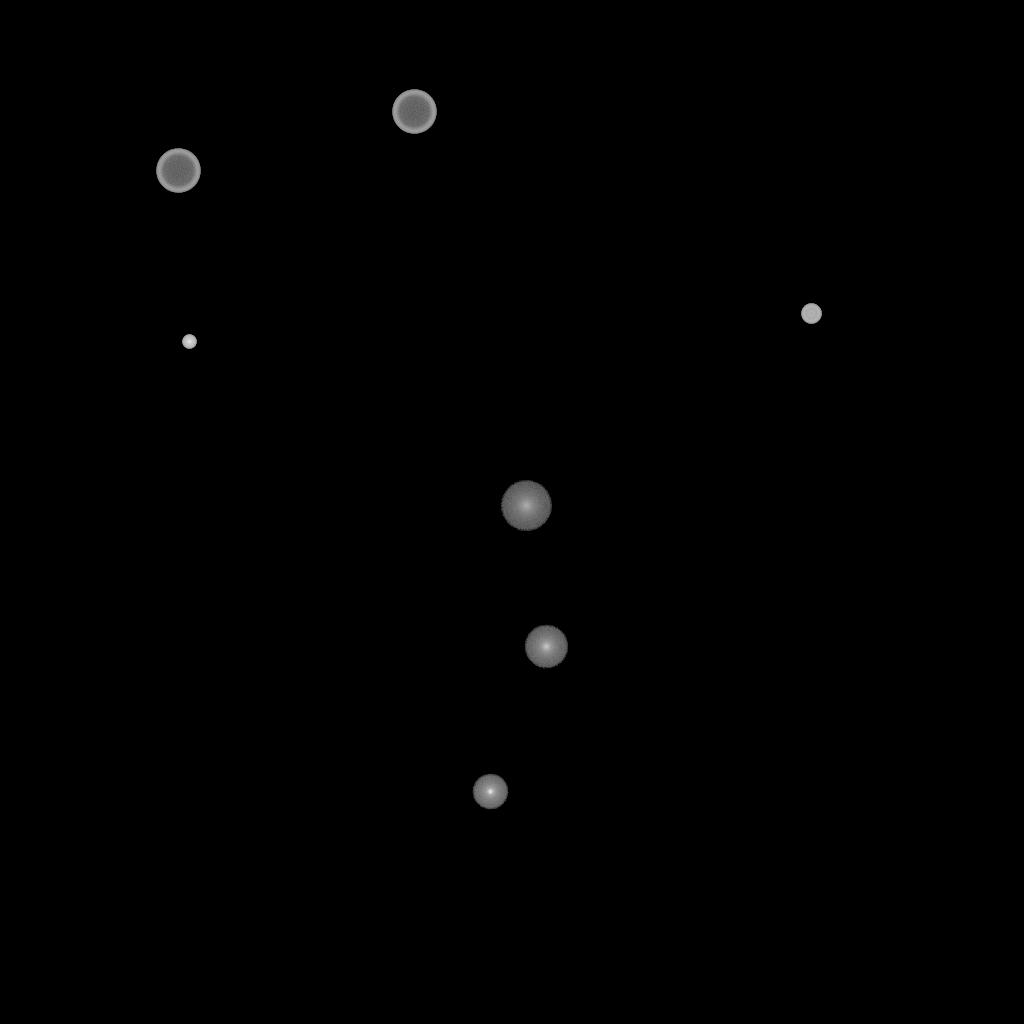depth:-30: (182, 335, 196, 349)
depth:-40: (801, 304, 821, 324)
depth:-70: (392, 90, 436, 134), (156, 149, 200, 193)
depth:0: (472, 774, 508, 810)
depth:10: (524, 625, 568, 669)
depth:20: (500, 481, 552, 531)
